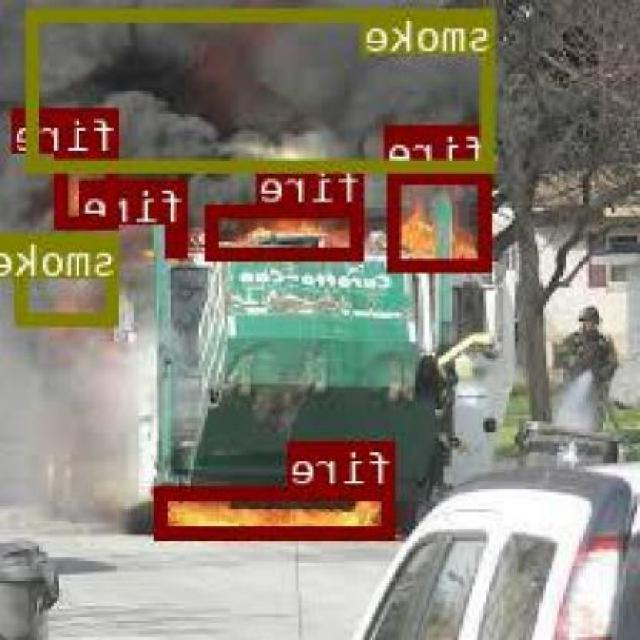Fire: (158, 484, 397, 536), (390, 169, 495, 269), (210, 204, 367, 258)
Smoke: (31, 6, 498, 169), (18, 232, 122, 322)
